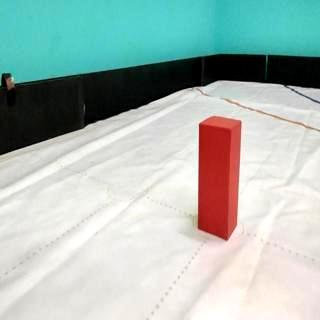redbox: (198, 114, 241, 243)
